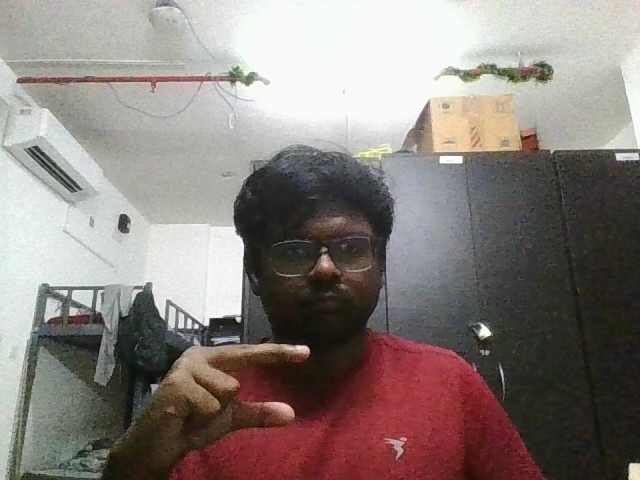No: (101, 328, 323, 467)
